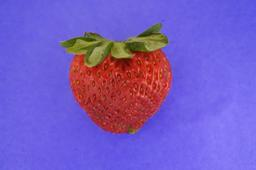red strawberry: (67, 30, 173, 136)
